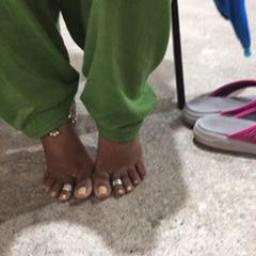Dorsal View -Both Feet-: (28, 98, 152, 216)
